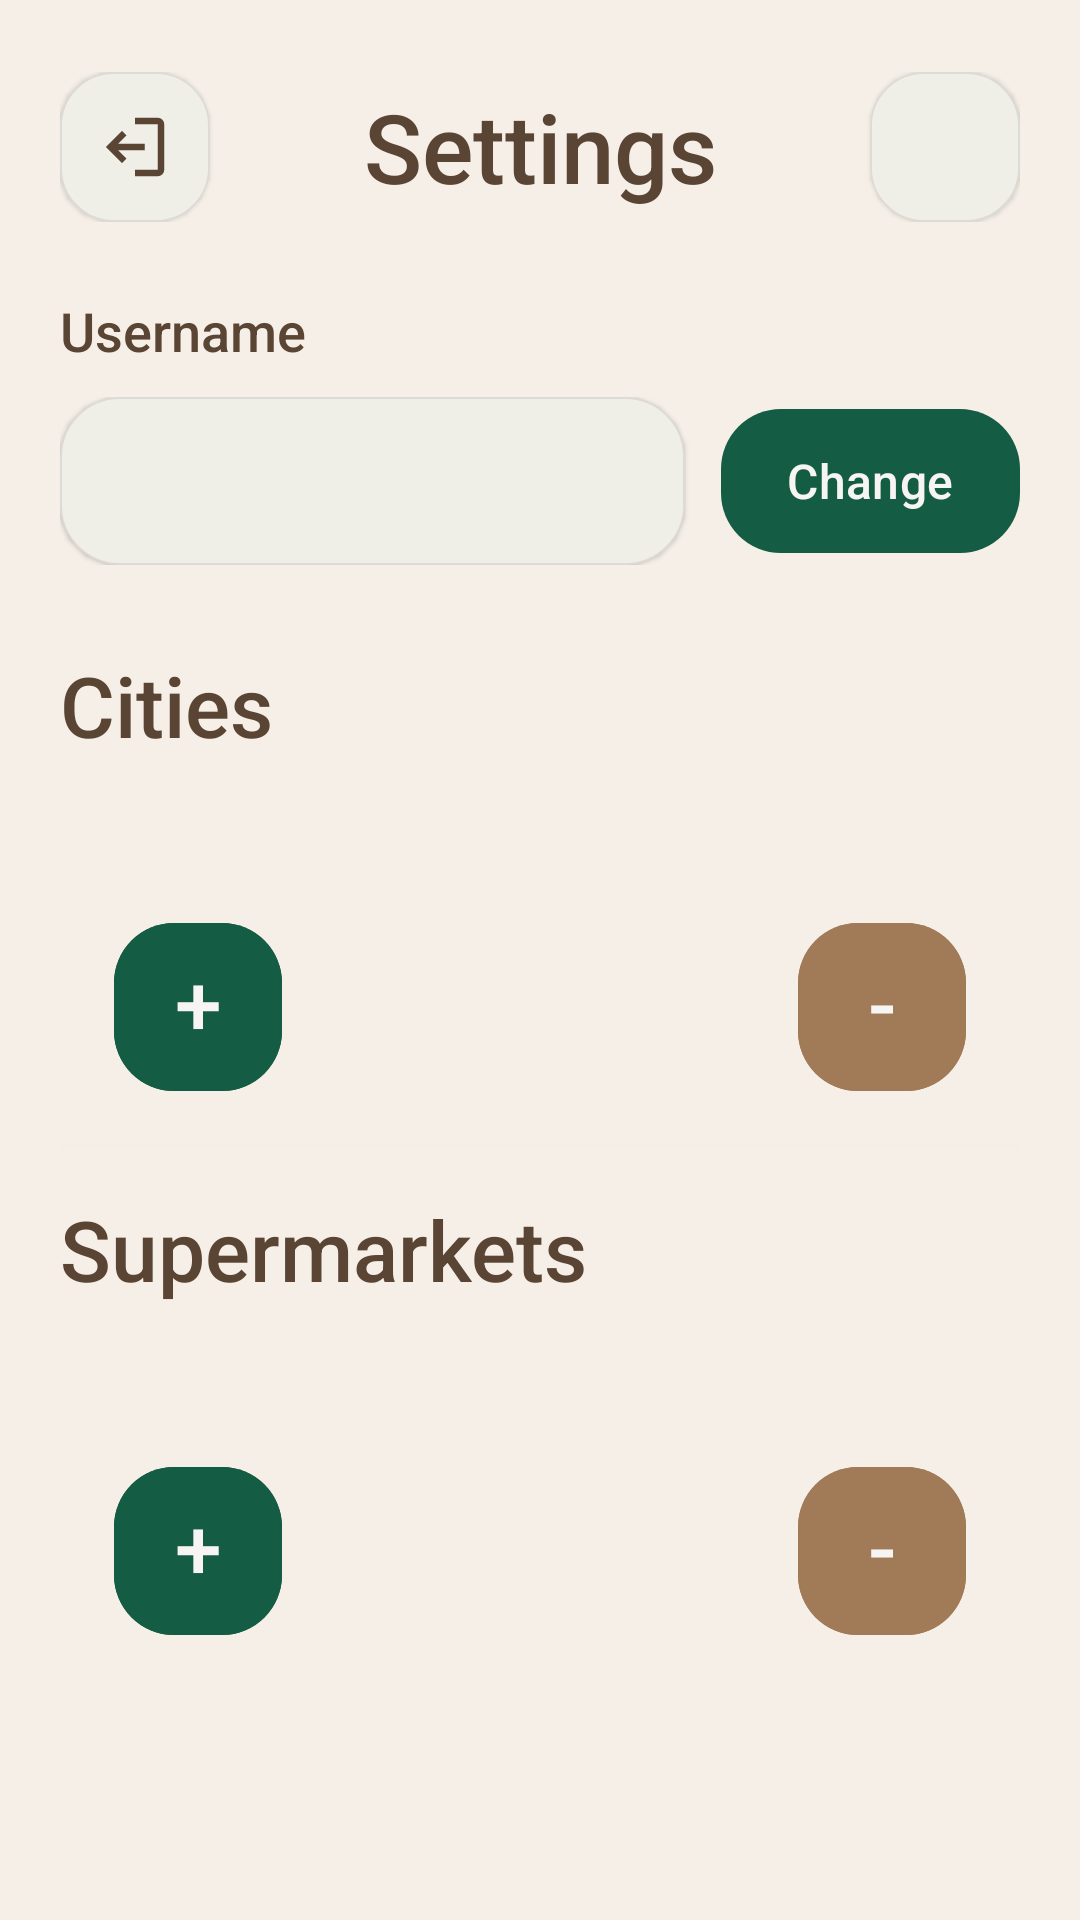

Named icons in this screenshot (1080x1920) and their bounding boxes, (x1, y1, x2, y2):
Log Out: (60, 72, 210, 222)
